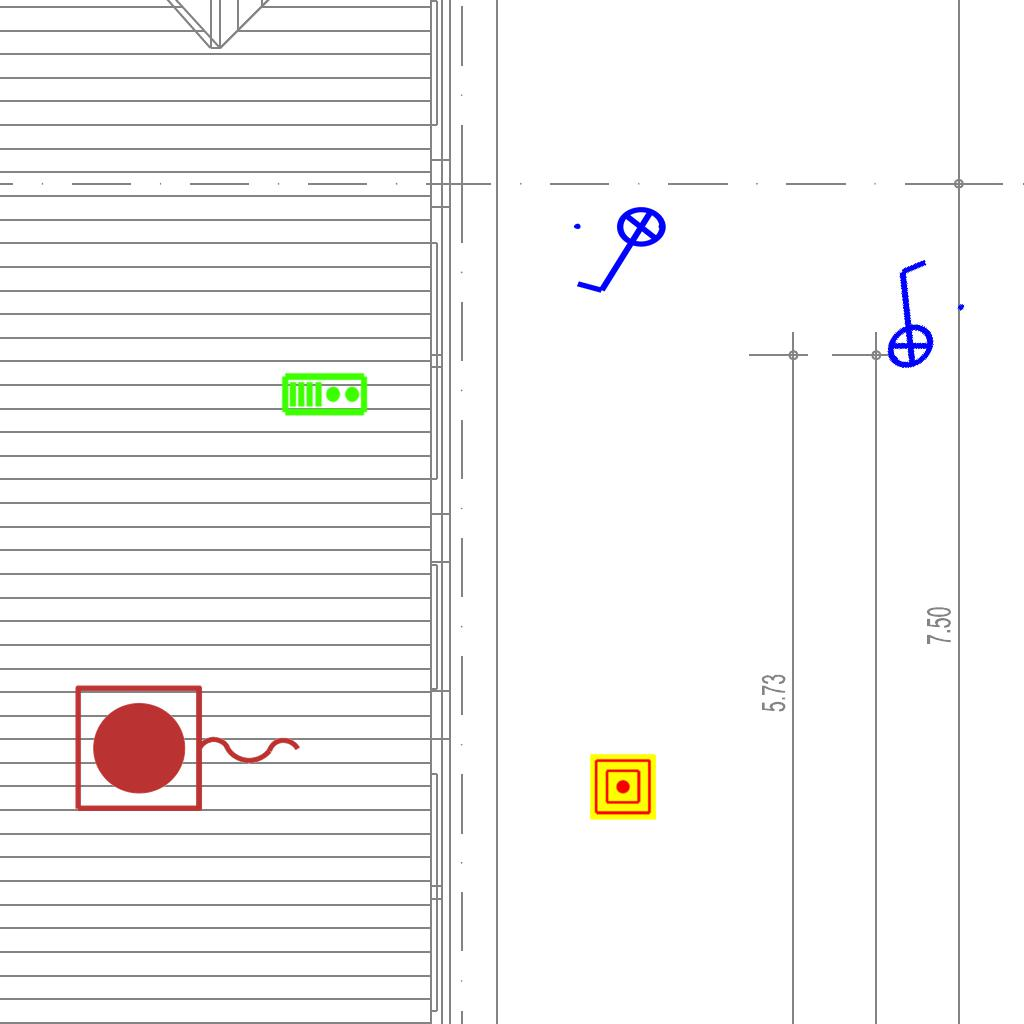Ausschalter_beleuchtet: (834, 242, 982, 388), (568, 205, 680, 301)
Gegensprechanlage_mit_Video: (281, 370, 369, 417)
NAM-Nichtautomatischer_Melder: (590, 754, 656, 820)
Zugtaster: (67, 678, 311, 822)
